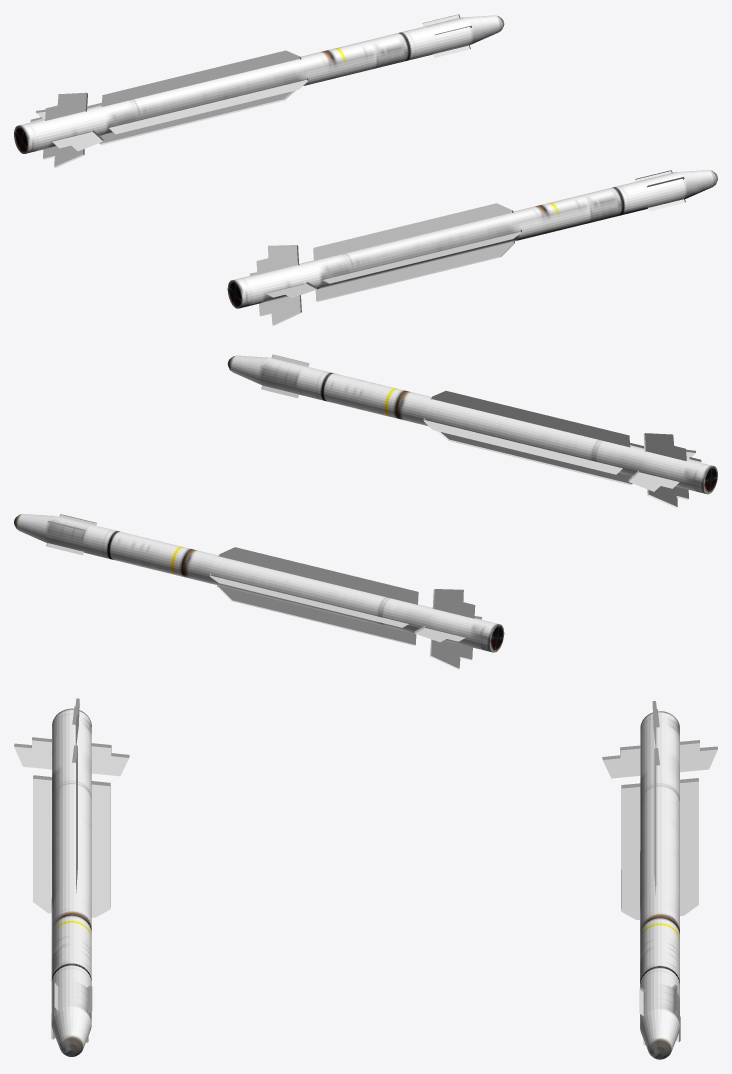
Rendered from rafalemicair56.glb.
3 views of the same model, one above another, from view 1: azimuth 30°, elevation 25°; view 2: azimuth 150°, elevation 25°; view 3: azimuth 270°, elevation 25° (orthographic). The views are drawn at different scales.
Parts seen in each view (by area): view 1: 円柱.023, 円柱.024; view 2: 円柱.024, 円柱.023; view 3: 円柱.023, 円柱.024.
Boxes of the visible parts, box(x1,y1,x2,y2) form: 円柱.023: box(227, 170, 717, 325); 円柱.024: box(14, 14, 504, 167); 円柱.024: box(14, 514, 504, 669); 円柱.023: box(227, 354, 717, 507); 円柱.023: box(14, 698, 129, 1056); 円柱.024: box(602, 701, 717, 1059).
Size of the model in its own units: 3.55 by 0.5495 by 3.26.
Materials: 1 (1 with a texture image).
